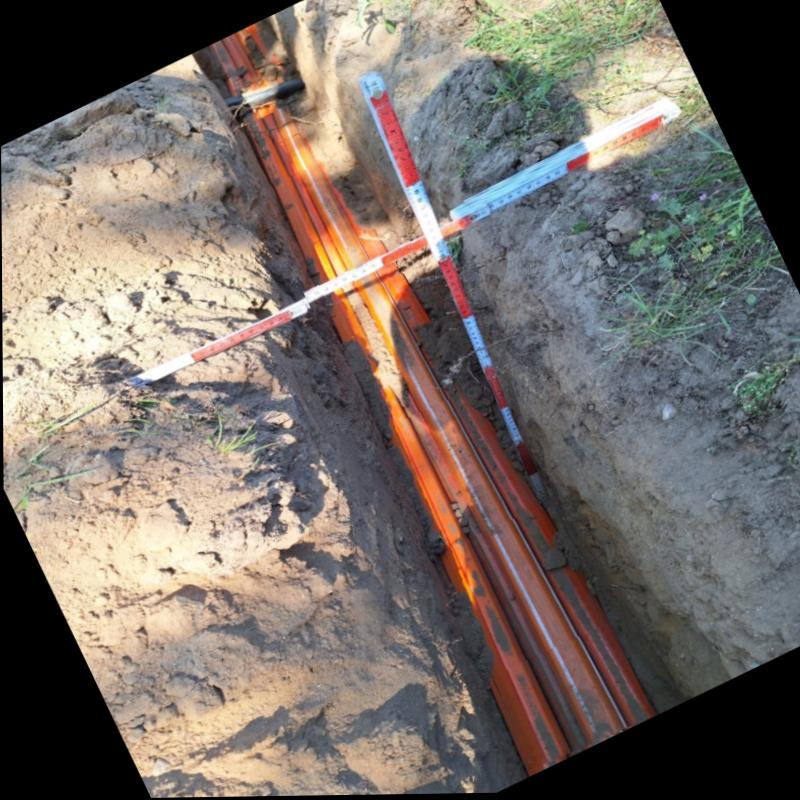Orang-Speednetrohrchen: (247, 107, 653, 771)
